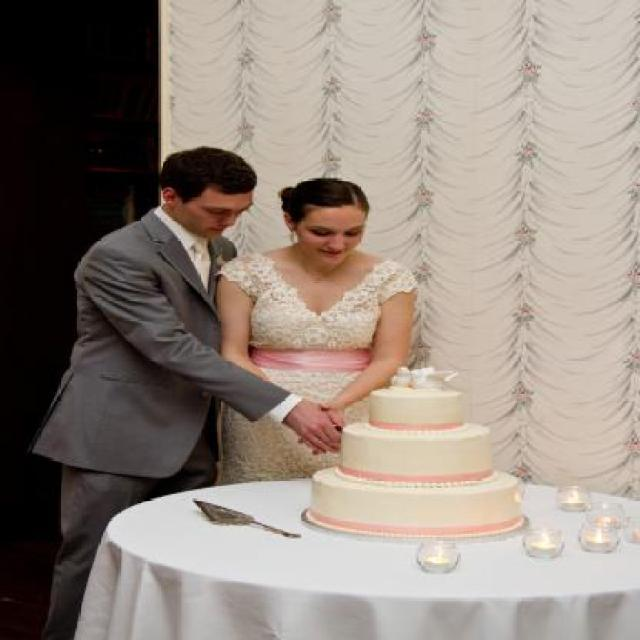Cake: (307, 367, 524, 535)
